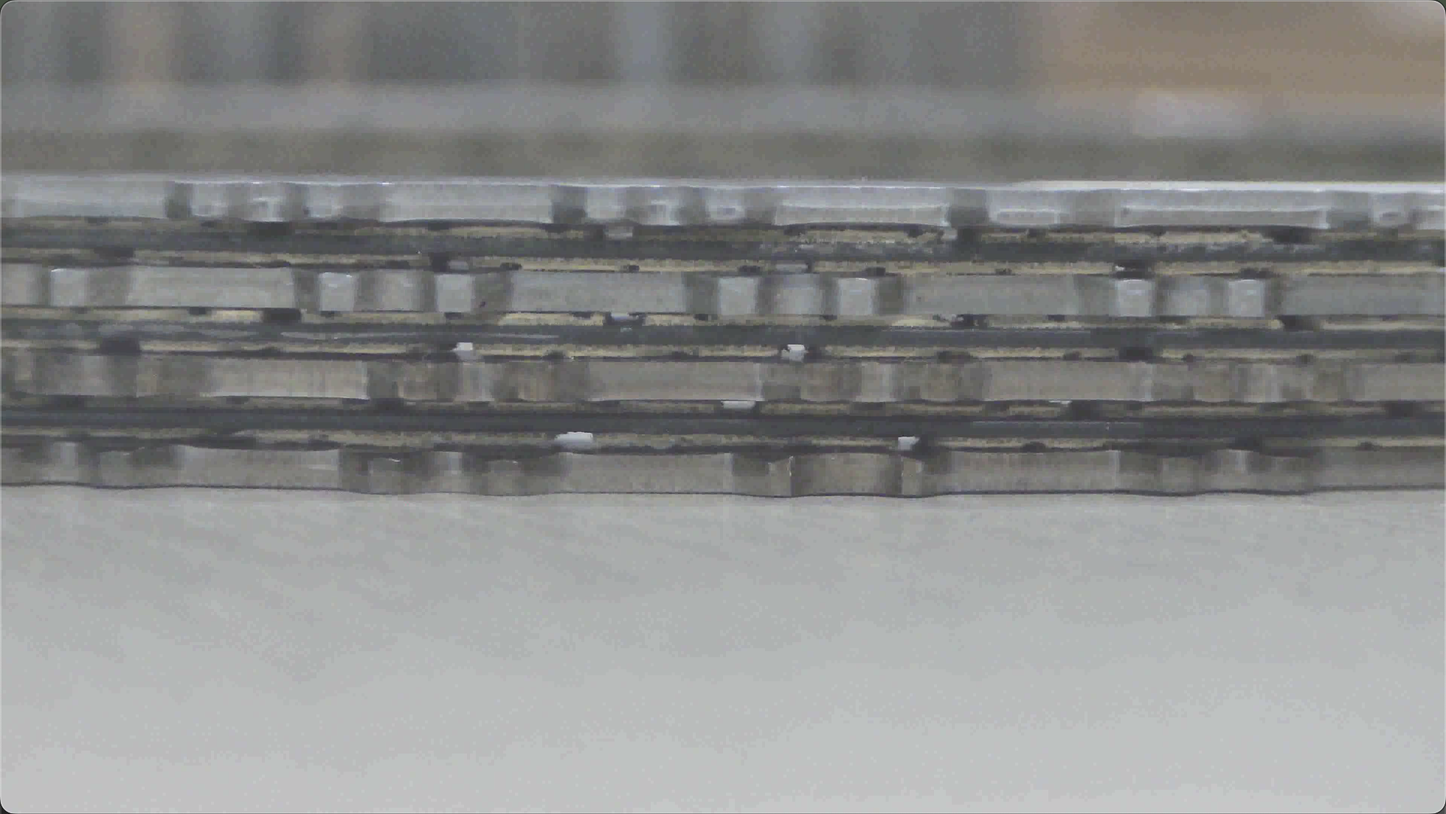Black metal plate: (0, 436, 1445, 495)
shiney metal plate: (0, 583, 1445, 639), (0, 264, 1441, 318), (17, 353, 1445, 403)
spacer: (0, 543, 1442, 600), (0, 400, 1445, 443), (0, 318, 1444, 353)
